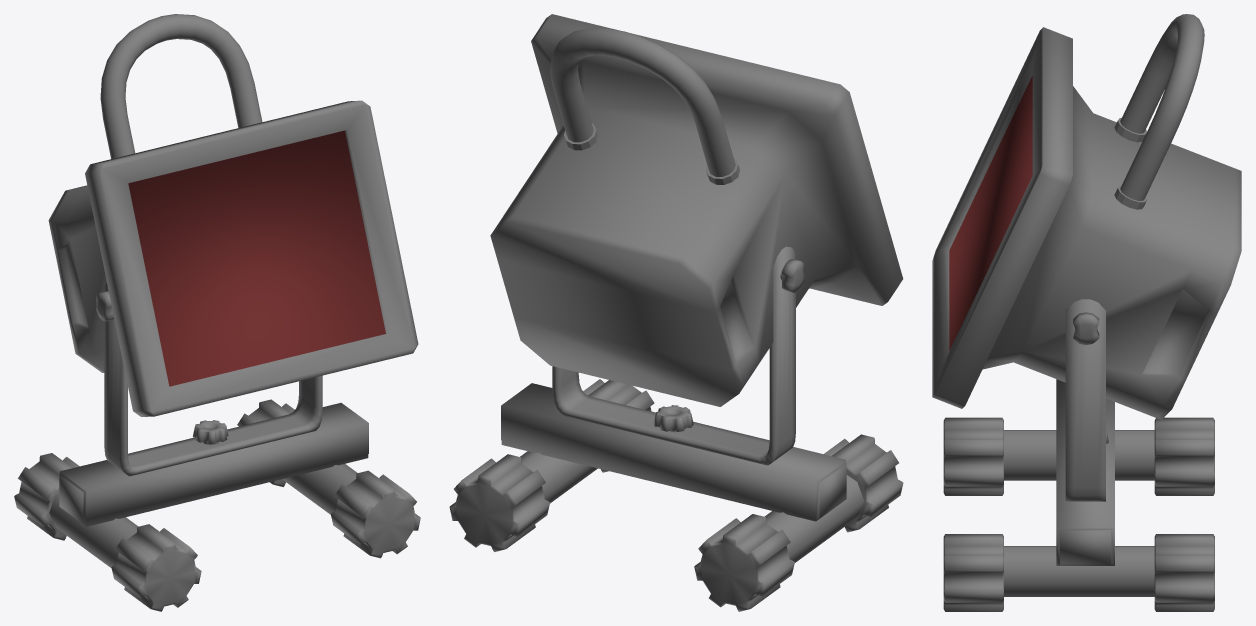
3 views of the same model, side by side, from view 1: azimuth 30°, elevation 25°; view 2: azimuth 150°, elevation 25°; view 3: azimuth 270°, elevation 25° (orthographic). The views are drawn at different scales.
Visible parts, largest first — view 1: Object003; view 2: Object003; view 3: Object003.
Part boxes in pixels (box(x1,y1,x2,y2)): Object003: box(14, 14, 420, 611); Object003: box(449, 14, 903, 611); Object003: box(932, 14, 1241, 611).
Bounding box in the file's own units: 548 × 885 × 473.
